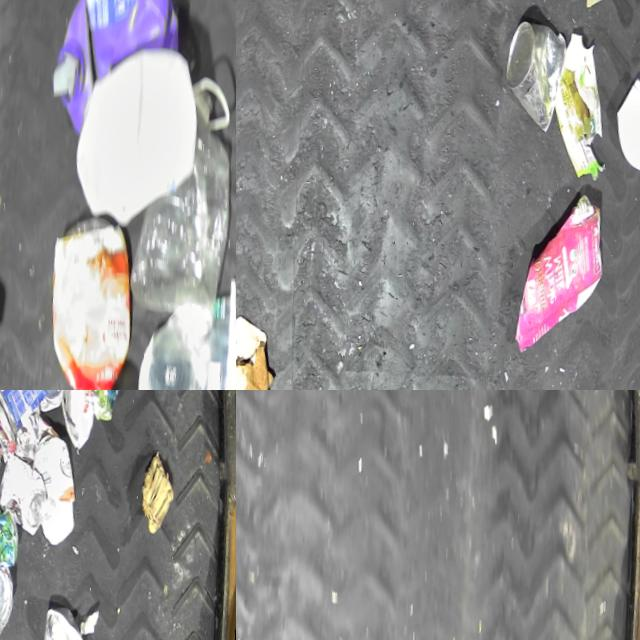can: (504, 17, 579, 134), (0, 449, 55, 535), (0, 390, 66, 435), (57, 390, 101, 449), (46, 600, 99, 640), (0, 562, 25, 640), (0, 503, 28, 568), (39, 390, 70, 410)
milk_jug: (69, 42, 214, 229)
non_white_jug: (43, 0, 193, 136)
